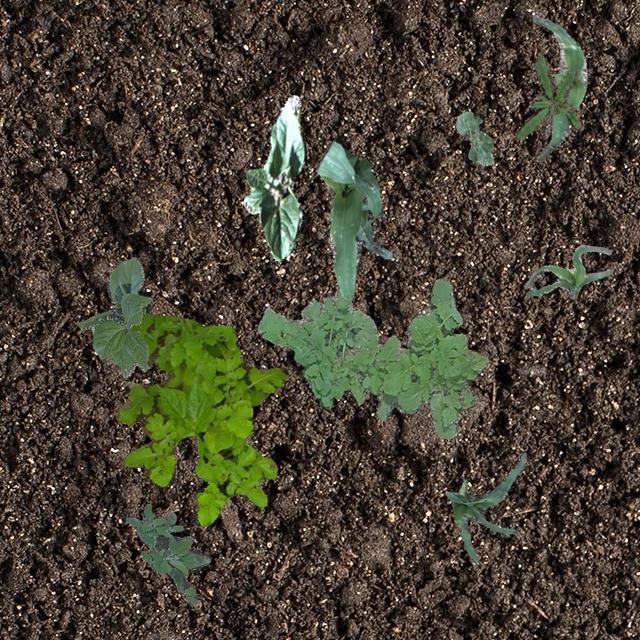crop: (316, 140, 390, 300), (240, 94, 306, 260), (444, 452, 526, 564), (76, 256, 152, 376), (532, 13, 586, 160), (522, 244, 612, 298), (454, 110, 492, 166)
weed: (256, 276, 488, 438), (115, 312, 286, 524), (124, 502, 210, 606), (516, 53, 580, 138)
